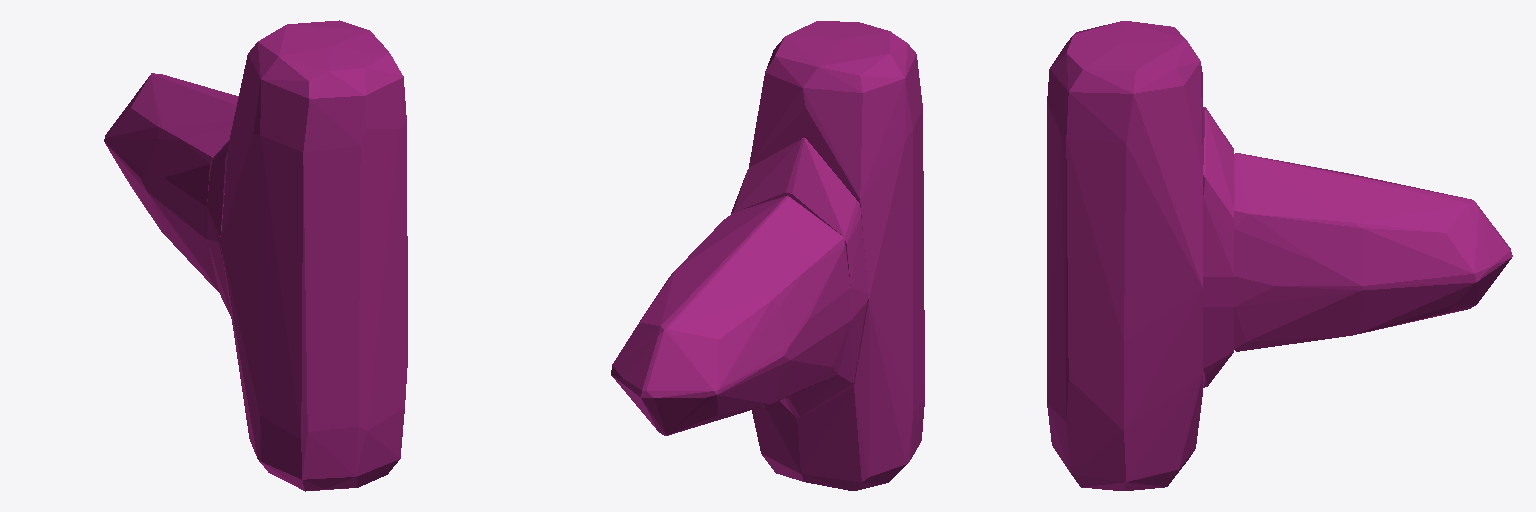
robot.urdf — blob738:
<robot name="blob738">
  <link name="random_obj_738">
    <contact>
      <lateral_friction value="1.0"/>
      <rolling_friction value="0.0"/>
      <inertia_scaling value="3.0"/>
      <contact_cfm value="0.0"/>
      <contact_erp value="1.0"/>
    </contact>
    <inertial>
      <origin rpy="0 0 0" xyz="0 0 0"/>
      <mass value="0.1"/>
      <inertia ixx="1" ixy="0" ixz="0" iyy="1" iyz="0" izz="0"/>
    </inertial>
    <visual>
      <origin rpy="0 0 0" xyz="0 0 0"/>
      <geometry>
        <mesh filename="738.obj" scale="0.015 0.015 0.015"/>
      </geometry>
      <material name="blockmat">
        <color rgba="0.66 0.21 0.54 1"/>
      </material>
    </visual>
    <collision>
      <origin rpy="0 0 0" xyz="0 0 0"/>
      <geometry>
        <mesh filename="738.obj" scale="0.015 0.015 0.015"/>
      </geometry>
    </collision>
  </link>
</robot>

--- Facts derived from the render (not from the file) ---
The picture shows the robot from 3 angles, left to right: view 1: azimuth 30°, elevation 25°; view 2: azimuth 150°, elevation 25°; view 3: azimuth 270°, elevation 25°; orthographic projection.
Robot: blob738 — 1 links, 0 joints (none); root link random_obj_738; default pose: all joints at 0.
Visible links, largest first — view 1: random_obj_738; view 2: random_obj_738; view 3: random_obj_738.
Link boxes in pixels (box(x1,y1,x2,y2)): random_obj_738: box(104, 20, 407, 491); random_obj_738: box(611, 21, 924, 490); random_obj_738: box(1047, 21, 1512, 490).
Bounding box of the posed robot: 0.0313 × 0.0907 × 0.0912 m (x, y, z).
Meshes: 1 distinct files referenced, 1 mesh visuals loaded (1 OBJ).